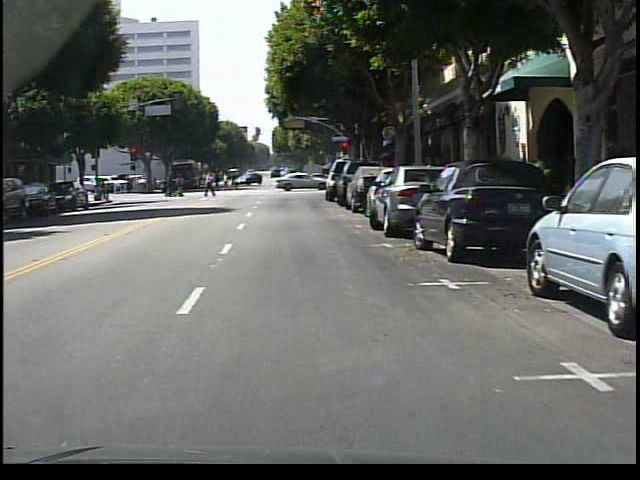person: (198, 169, 218, 199)
